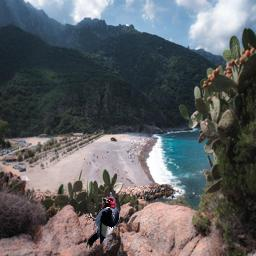Woodpecker: (83, 193, 119, 249)
